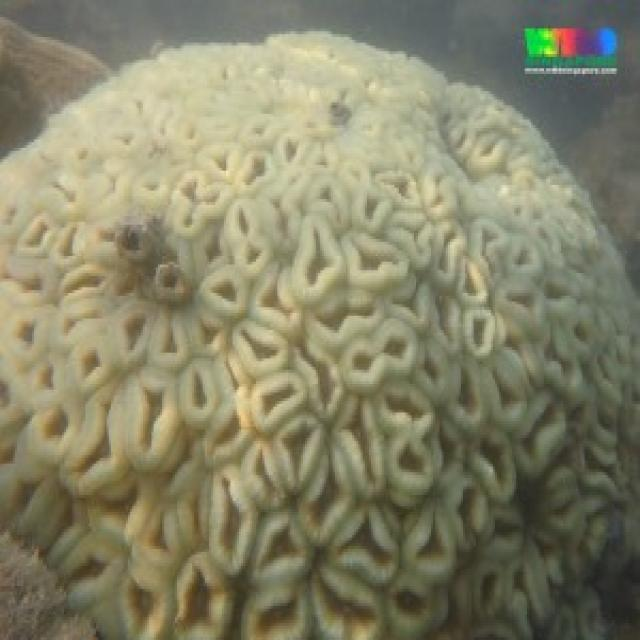Bleached: (1, 32, 639, 638)
